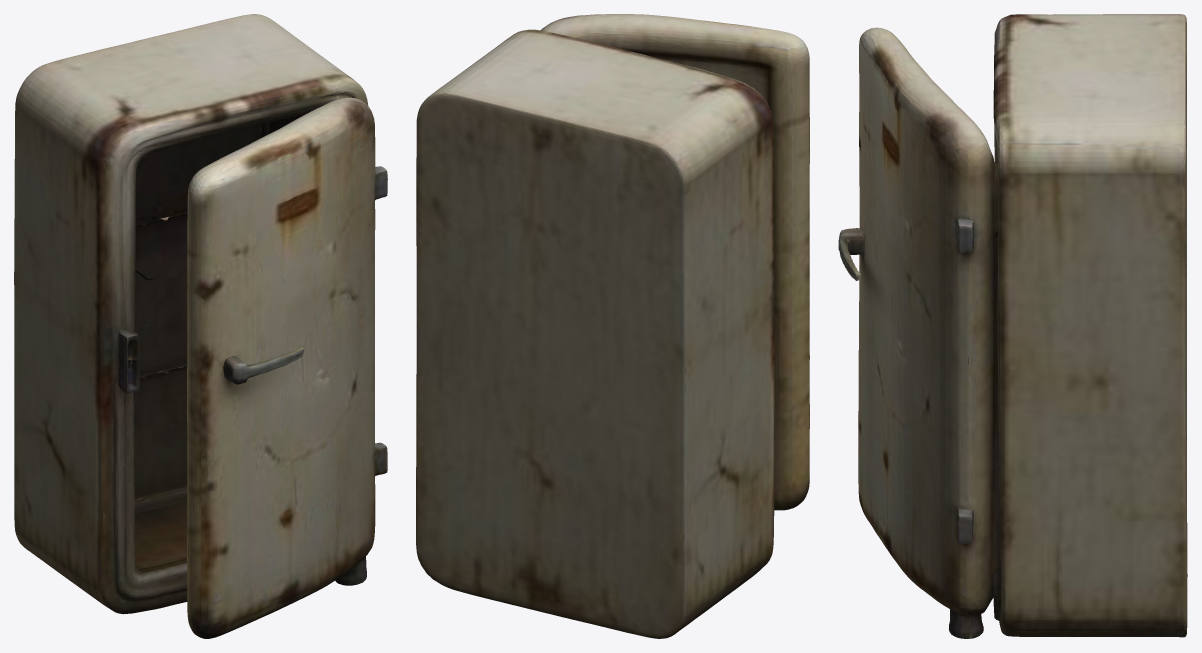
The model's file is fridge.glb.
3 renders of one model, left to right at view 1: azimuth 30°, elevation 25°; view 2: azimuth 150°, elevation 25°; view 3: azimuth 270°, elevation 25°, orthographic. The views are drawn at different scales.
Visible parts, largest first — view 1: world; view 2: world; view 3: world.
Boxes of the visible parts, x1,y1,x2,y2 form: world: [14, 14, 387, 638]; world: [416, 14, 809, 638]; world: [838, 14, 1187, 638].
Bounding box in the file's own units: 0.5741 × 1 × 0.6136.
1 material, 1 textured.
